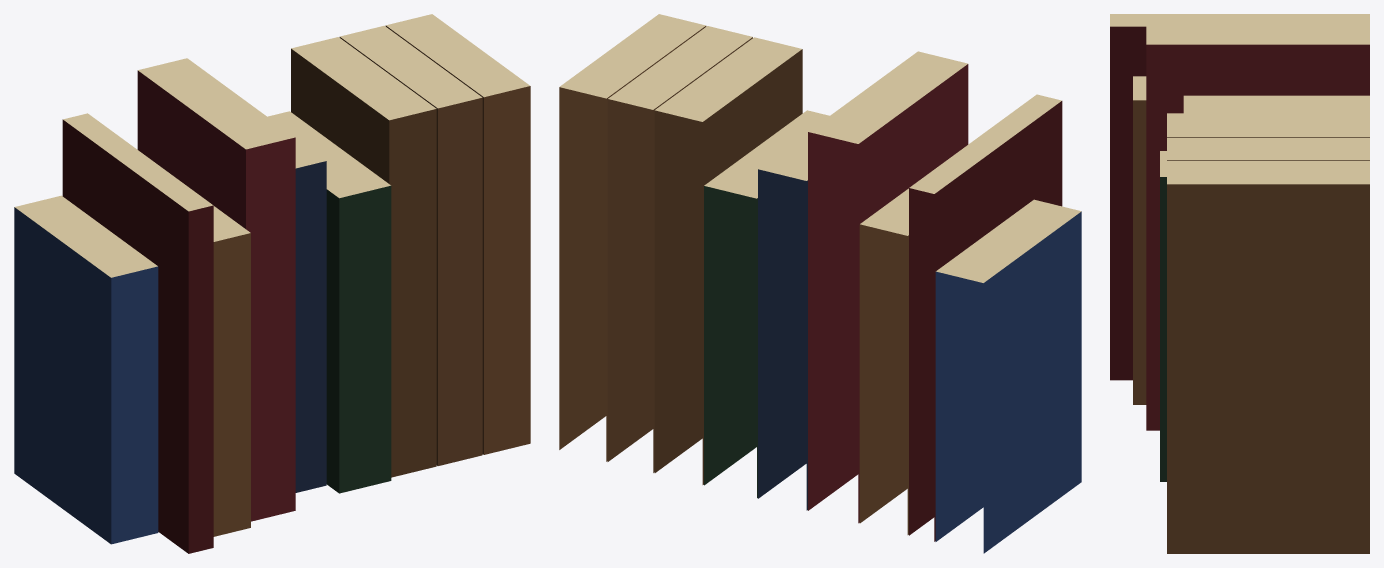
File: bookrow_tall_3_lod.glb
The picture shows the model from 3 angles, left to right: view 1: azimuth 30°, elevation 25°; view 2: azimuth 150°, elevation 25°; view 3: azimuth 270°, elevation 25°; orthographic projection. The views are drawn at different scales.
Visible parts, largest first — view 1: bookrow_tall_3_lod; view 2: bookrow_tall_3_lod; view 3: bookrow_tall_3_lod.
Boxes of the visible parts, x1,y1,x2,y2 form: bookrow_tall_3_lod: (14, 14, 530, 553); bookrow_tall_3_lod: (559, 14, 1081, 553); bookrow_tall_3_lod: (1110, 14, 1369, 553).
Size of the model in its own units: 0.4894 by 0.4179 by 0.2553.
